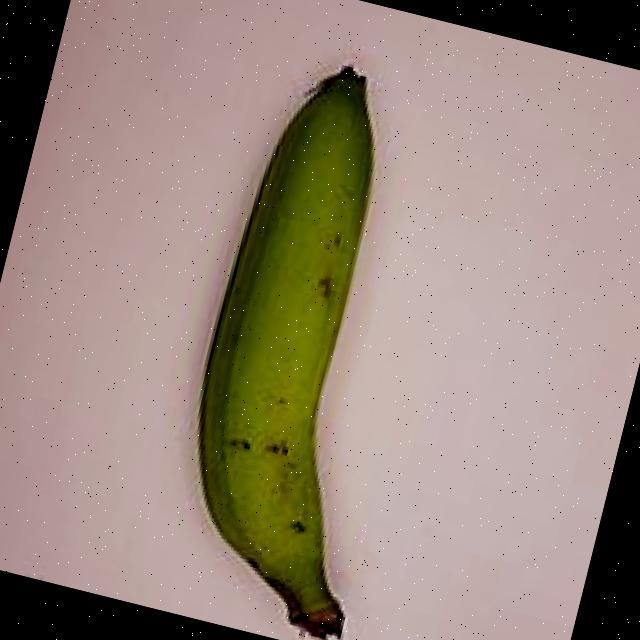Raw: (110, 25, 511, 640)
